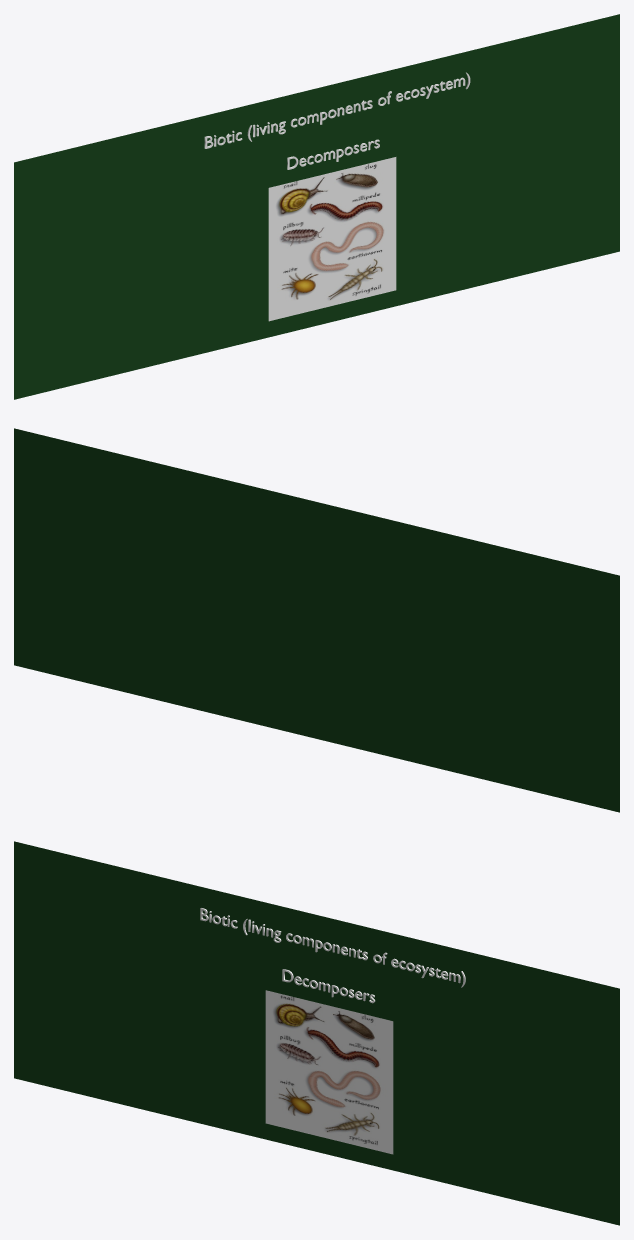
File: decomposers.gltf
3 renders of one model, top to bottom at view 1: azimuth 30°, elevation 25°; view 2: azimuth 150°, elevation 25°; view 3: azimuth 330°, elevation 25°, orthographic.
Visible parts, largest first — view 1: Plane.013, Plane.002, Text.001, Text.003; view 2: Plane.013; view 3: Plane.013, Plane.002, Text.001, Text.003.
Boxes of the visible parts, box(x1,y1,x2,y2) form: Plane.013: box(14, 14, 619, 399); Plane.002: box(268, 157, 396, 321); Text.001: box(204, 72, 470, 148); Text.003: box(287, 139, 379, 169); Plane.013: box(14, 428, 619, 812); Plane.013: box(14, 841, 619, 1225); Plane.002: box(265, 990, 393, 1154); Text.001: box(200, 908, 465, 987); Text.003: box(282, 969, 375, 1003).
Size of the model in its own units: 15.94 by 5.96 by 0.1403.
Materials: 4 (1 with a texture image).
